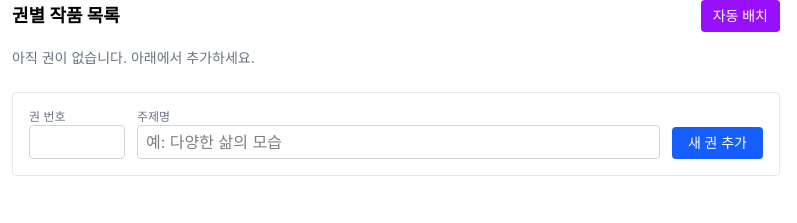
Test case: 새 권을 추가하면 목록에 나타난다
The width and height of the screenshot is (797, 223).
Expected: the button "새 권 추가" is shown, [672, 127, 763, 159]
Type "9" into the number field labelled "권 번호".
click(77, 142); type("9")  # box [29, 125, 125, 159]
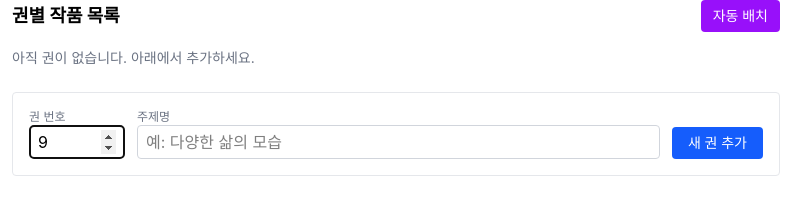
Type "자연" into the field labelled "주제명".
click(398, 142); type("자연")  # box [137, 125, 660, 159]
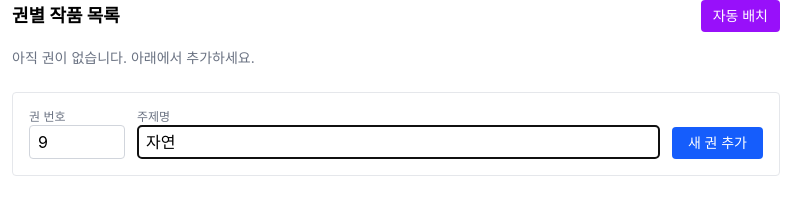
Click the button "새 권 추가".
click(718, 143)  # box [672, 127, 763, 159]
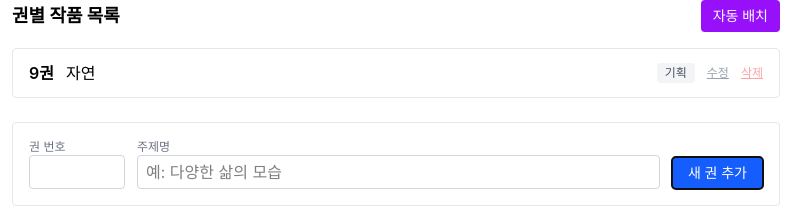
Result: the text "자연" is shown at [66, 63, 96, 83]
